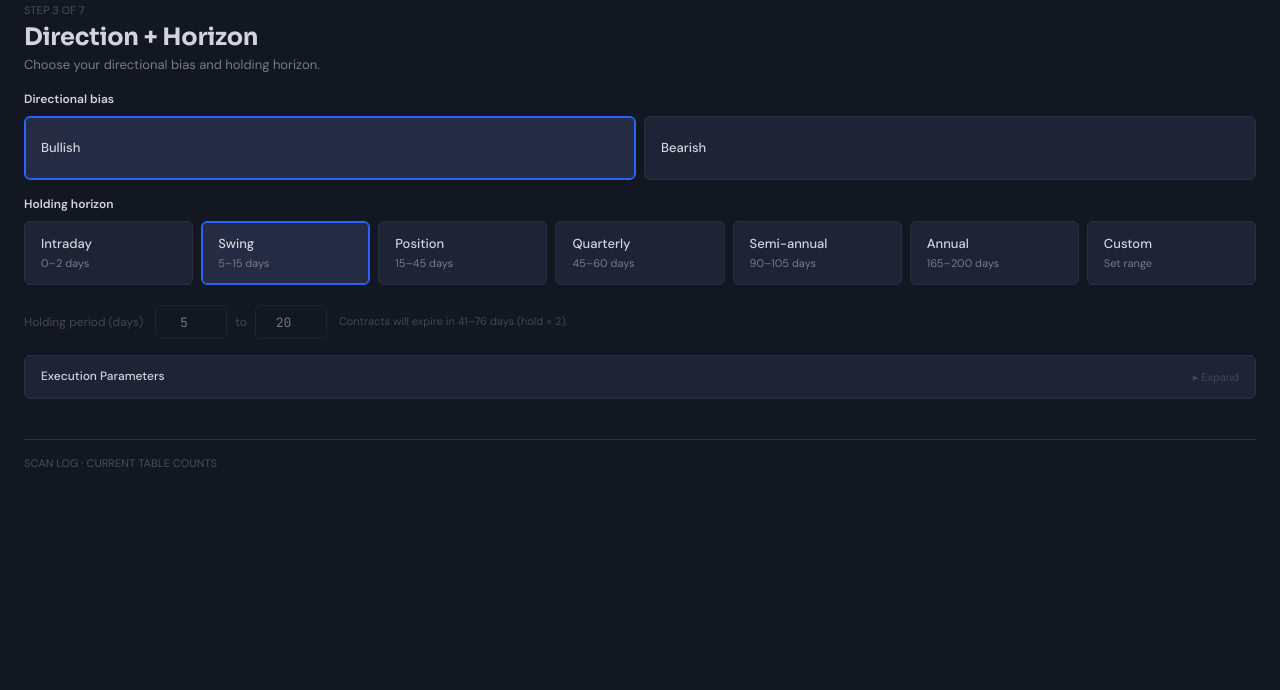
it: Step 3 — Stop percentage unit scaling and bounds (Finding C7, #385) › displays existing stored fraction (e.g. 0.04 from profile) as whole percent (4)
Click the text "Execution Parameters" at (103, 377), box [41,368,165,386]
(page scrolled)
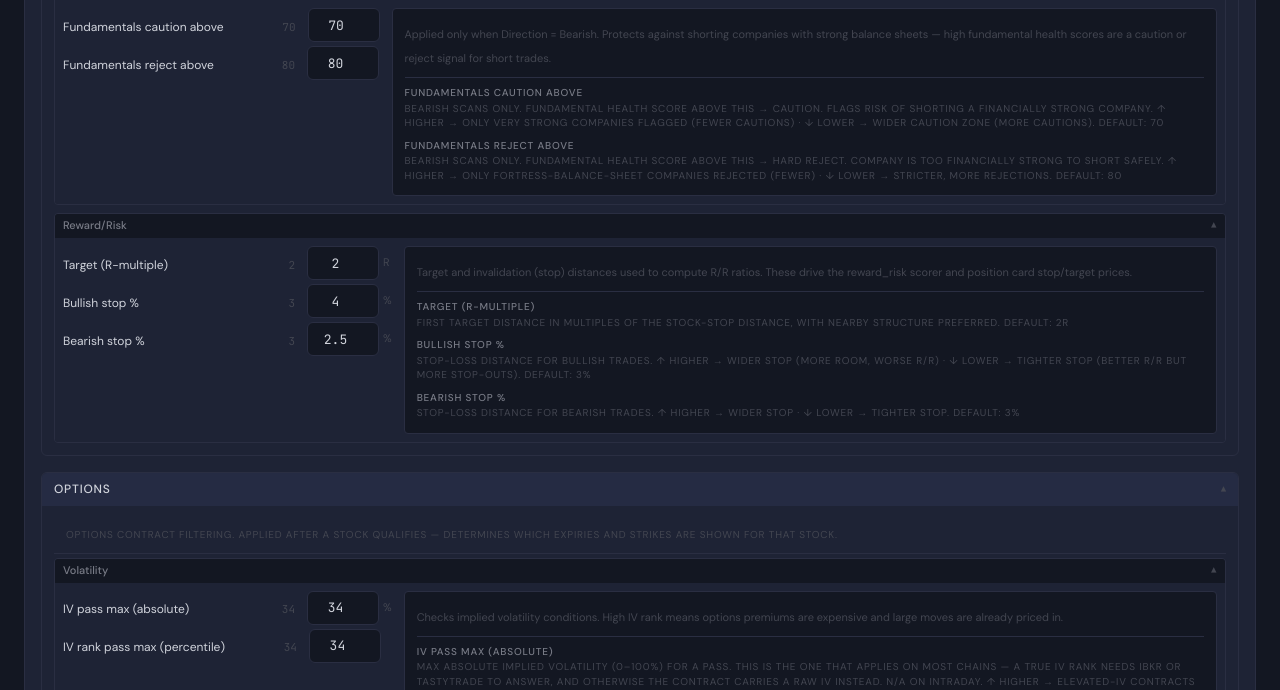
Expected: the number field named "Bullish stop %" holds "4", [307,284,379,318]
Expected: the number field named "Bearish stop %" holds "2.5", [307,322,379,356]
